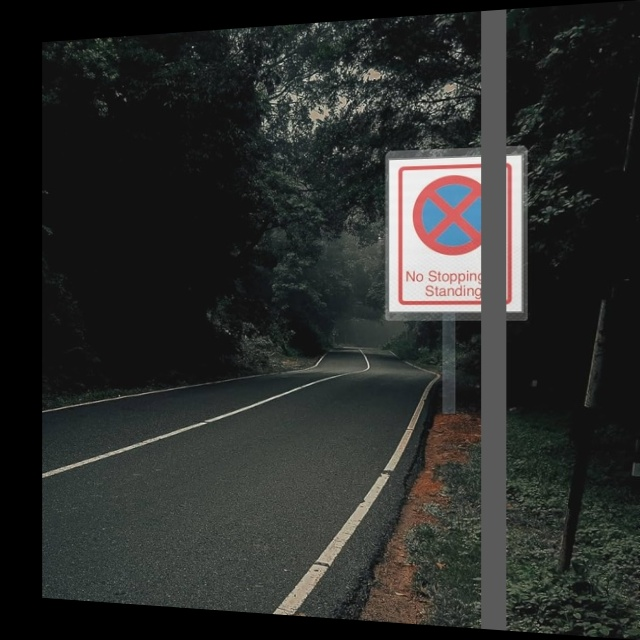No_Stopping_or_Standing: (404, 167, 506, 266)
